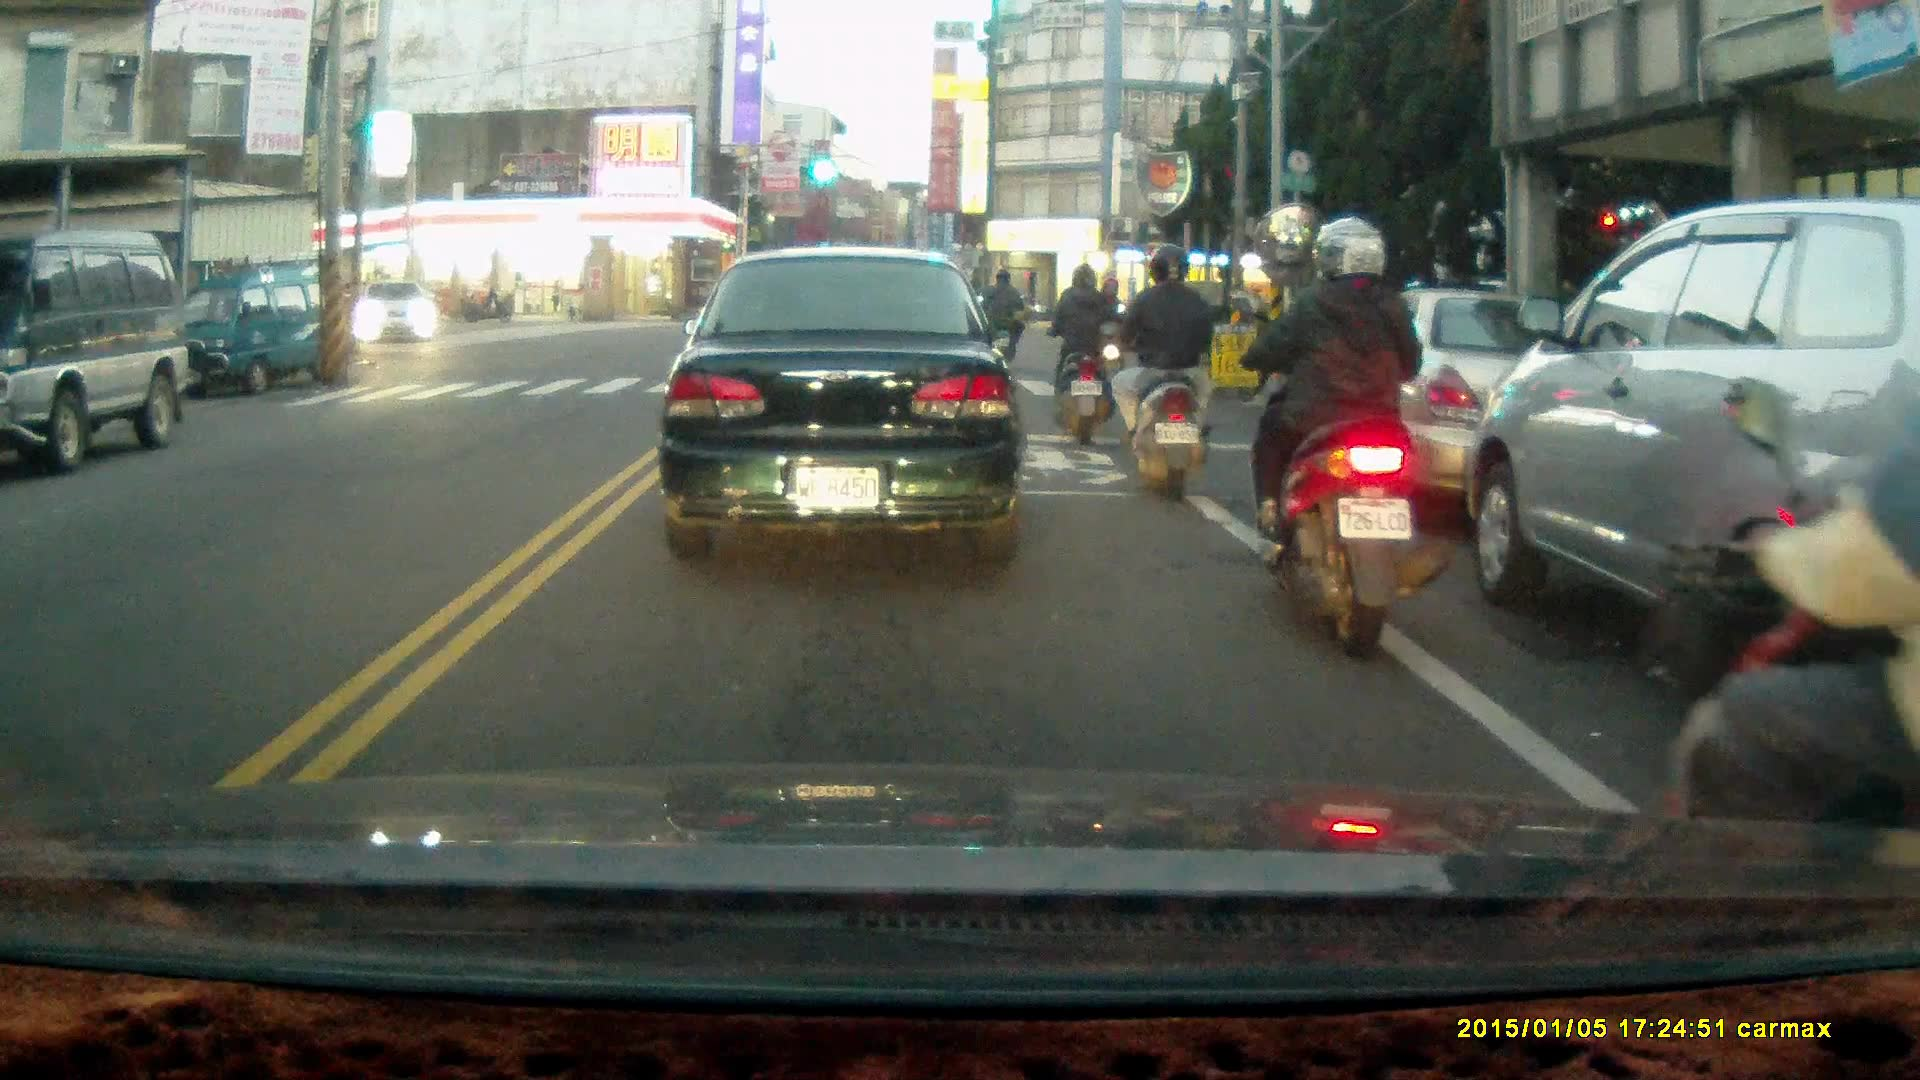rider: (1648, 371, 1920, 865), (1236, 213, 1454, 665), (1092, 245, 1217, 505), (1030, 263, 1117, 442), (981, 269, 1025, 368)
vehicle: (1457, 195, 1920, 787), (660, 246, 1028, 567), (1301, 288, 1654, 517), (1, 234, 184, 466), (165, 263, 347, 402), (359, 281, 442, 348)
